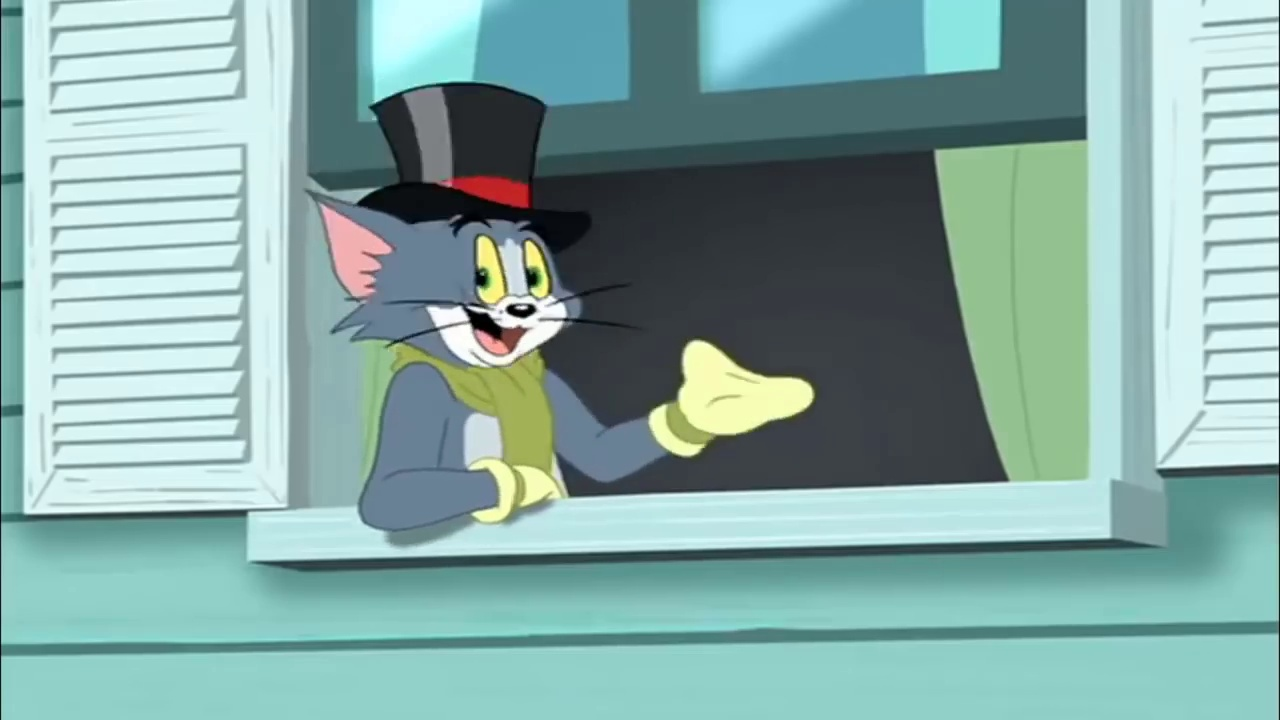face: (442, 218, 568, 367)
